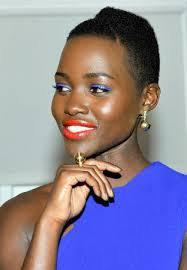Sober: (53, 45, 136, 153)
